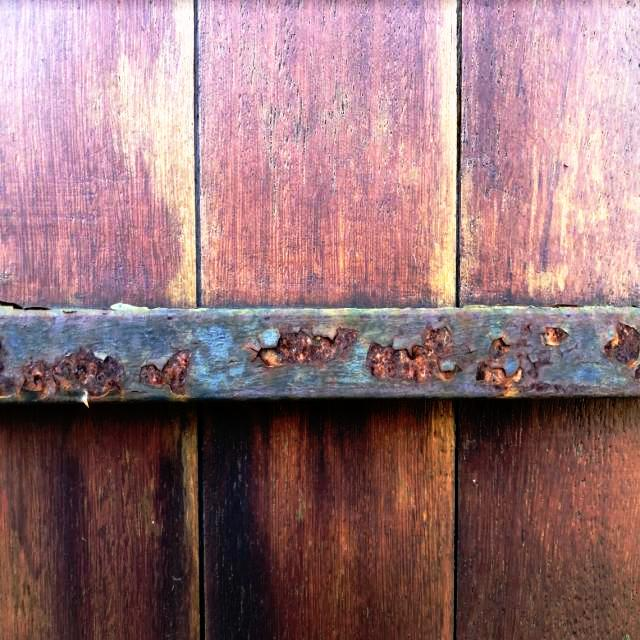Corrosion: (472, 322, 603, 399), (364, 318, 459, 386), (246, 322, 362, 372), (136, 345, 195, 400), (602, 318, 640, 387)
